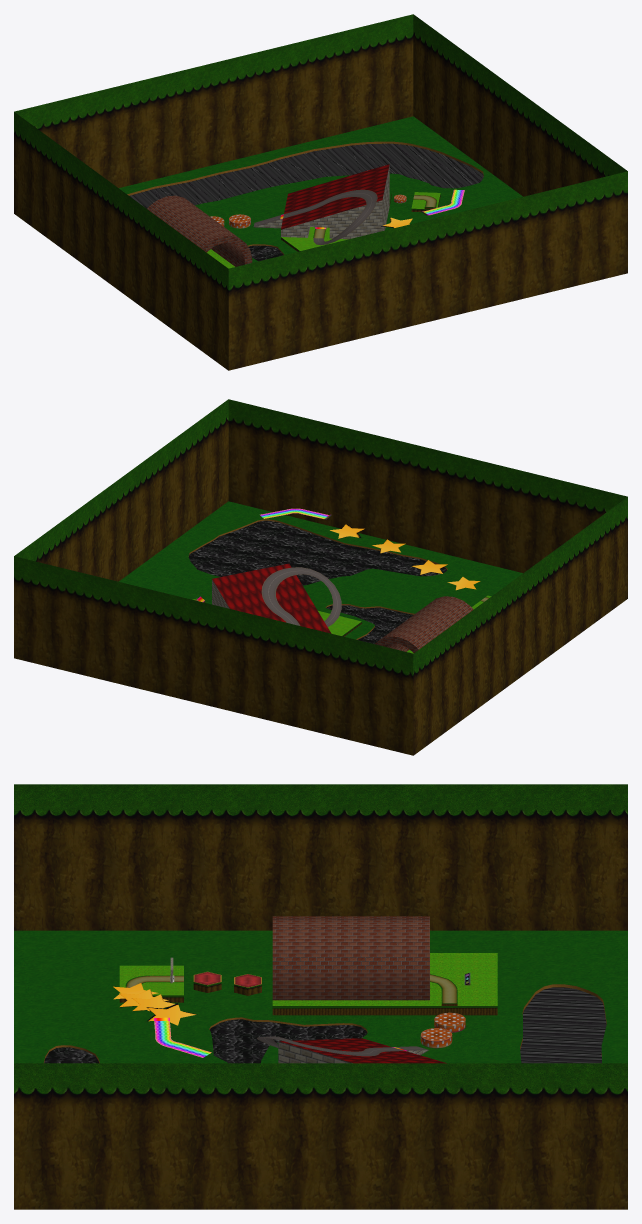
3 views of the same model, one above another, from view 1: azimuth 30°, elevation 25°; view 2: azimuth 150°, elevation 25°; view 3: azimuth 270°, elevation 25° (orthographic). The views are drawn at different scales.
Visible parts, largest first — view 1: Shaped_Raceway_new-SKP--kabe_01, Shaped_Raceway_new-SKP--road_kiwa_a, Shaped_Raceway_new-SKP--lc_lake, Shaped_Raceway_new-SKP--renga2, Shaped_Raceway_new-SKP--yane_r2, Shaped_Raceway_new-SKP--renga, Shaped_Raceway_new-SKP--mainROAD_all_mip1, Shaped_Raceway_new-SKP--road_kusa_03, Shaped_Raceway_new-SKP--enkei; view 2: Shaped_Raceway_new-SKP--kabe_01, Shaped_Raceway_new-SKP--road_kiwa_a, Shaped_Raceway_new-SKP--lc_lake, Shaped_Raceway_new-SKP--yane_r2, Shaped_Raceway_new-SKP--renga2, Shaped_Raceway_new-SKP--mainROAD_all_mip1, Shaped_Raceway_new-SKP--star-vector-png-transparent-image-pn, Shaped_Raceway_new-SKP--road_kusa_03, Shaped_Raceway_new-SKP--enkei; view 3: Shaped_Raceway_new-SKP--kabe_01, Shaped_Raceway_new-SKP--road_kiwa_a, Shaped_Raceway_new-SKP--renga2, Shaped_Raceway_new-SKP--lc_lake, Shaped_Raceway_new-SKP--enkei, Shaped_Raceway_new-SKP--yane_r2, Shaped_Raceway_new-SKP--star-vector-png-transparent-image-pn, Shaped_Raceway_new-SKP--renga, Shaped_Raceway_new-SKP--road_a, Shaped_Raceway_new-SKP--road_kusa_03, Shaped_Raceway_new-SKP--mainROAD_all_mip1, Shaped_Raceway_new-SKP--r_road (+2 smaller).
Boxes of the visible parts, x1,y1,x2,y2 form: Shaped_Raceway_new-SKP--kabe_01: (14,14,627,370); Shaped_Raceway_new-SKP--road_kiwa_a: (119,116,522,262); Shaped_Raceway_new-SKP--lc_lake: (129,143,483,261); Shaped_Raceway_new-SKP--renga2: (147,195,252,266); Shaped_Raceway_new-SKP--yane_r2: (281,164,389,229); Shaped_Raceway_new-SKP--renga: (254,165,389,239); Shaped_Raceway_new-SKP--mainROAD_all_mip1: (253,189,377,245); Shaped_Raceway_new-SKP--road_kusa_03: (127,141,483,254); Shaped_Raceway_new-SKP--enkei: (207,192,440,268); Shaped_Raceway_new-SKP--kabe_01: (14,399,627,755); Shaped_Raceway_new-SKP--road_kiwa_a: (119,501,522,639); Shaped_Raceway_new-SKP--lc_lake: (188,520,446,643); Shaped_Raceway_new-SKP--yane_r2: (212,563,331,633); Shaped_Raceway_new-SKP--renga2: (374,596,473,652); Shaped_Raceway_new-SKP--mainROAD_all_mip1: (261,567,341,626); Shaped_Raceway_new-SKP--star-vector-png-transparent-image-pn: (330,524,480,590); Shaped_Raceway_new-SKP--road_kusa_03: (188,519,447,639); Shaped_Raceway_new-SKP--enkei: (192,595,491,653); Shaped_Raceway_new-SKP--kabe_01: (14,784,627,1209); Shaped_Raceway_new-SKP--road_kiwa_a: (14,930,627,1063); Shaped_Raceway_new-SKP--renga2: (272,916,470,1000); Shaped_Raceway_new-SKP--lc_lake: (44,987,606,1063); Shaped_Raceway_new-SKP--enkei: (119,953,497,1005); Shaped_Raceway_new-SKP--yane_r2: (279,1038,446,1063); Shaped_Raceway_new-SKP--star-vector-png-transparent-image-pn: (113,983,197,1025); Shaped_Raceway_new-SKP--renga: (170,957,428,1063); Shaped_Raceway_new-SKP--road_a: (125,974,457,1003); Shaped_Raceway_new-SKP--road_kusa_03: (44,984,606,1063); Shaped_Raceway_new-SKP--mainROAD_all_mip1: (257,1036,428,1056); Shaped_Raceway_new-SKP--r_road: (154,1021,211,1057).
Bounding box in the file's own units: 122106 × 30428 × 113579.
Materials: 19 (19 with a texture image).
